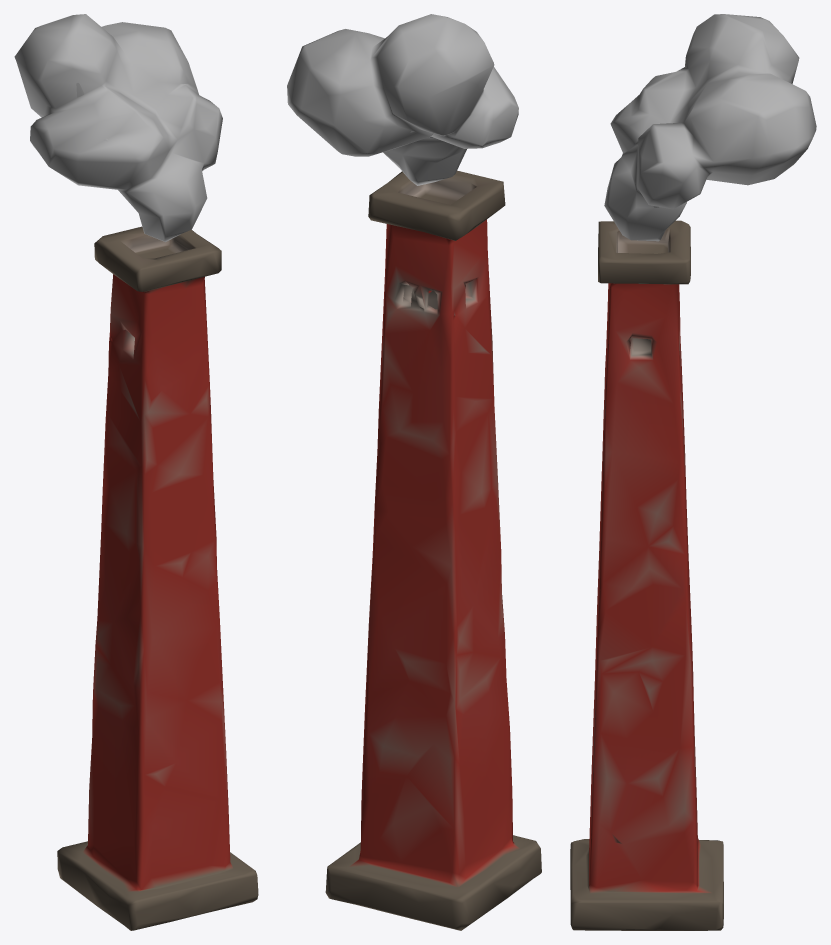
File: gen3d-smokestack-lod0.glb
3 renders of one model, left to right at view 1: azimuth 30°, elevation 25°; view 2: azimuth 150°, elevation 25°; view 3: azimuth 270°, elevation 25°, orthographic. The views are drawn at different scales.
Visible parts, largest first — view 1: part_0; view 2: part_0; view 3: part_0.
Boxes of the visible parts, x1,y1,x2,y2 form: part_0: (14,14,258,930); part_0: (287,14,541,930); part_0: (570,14,816,930).
Size of the model in its own units: 0.2078 by 1 by 0.2583.
